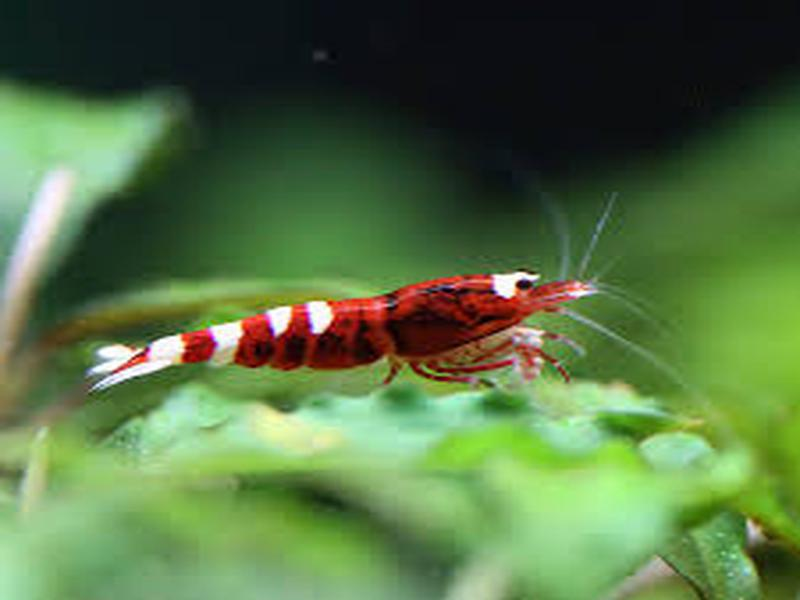shrimp: (83, 269, 599, 379)
